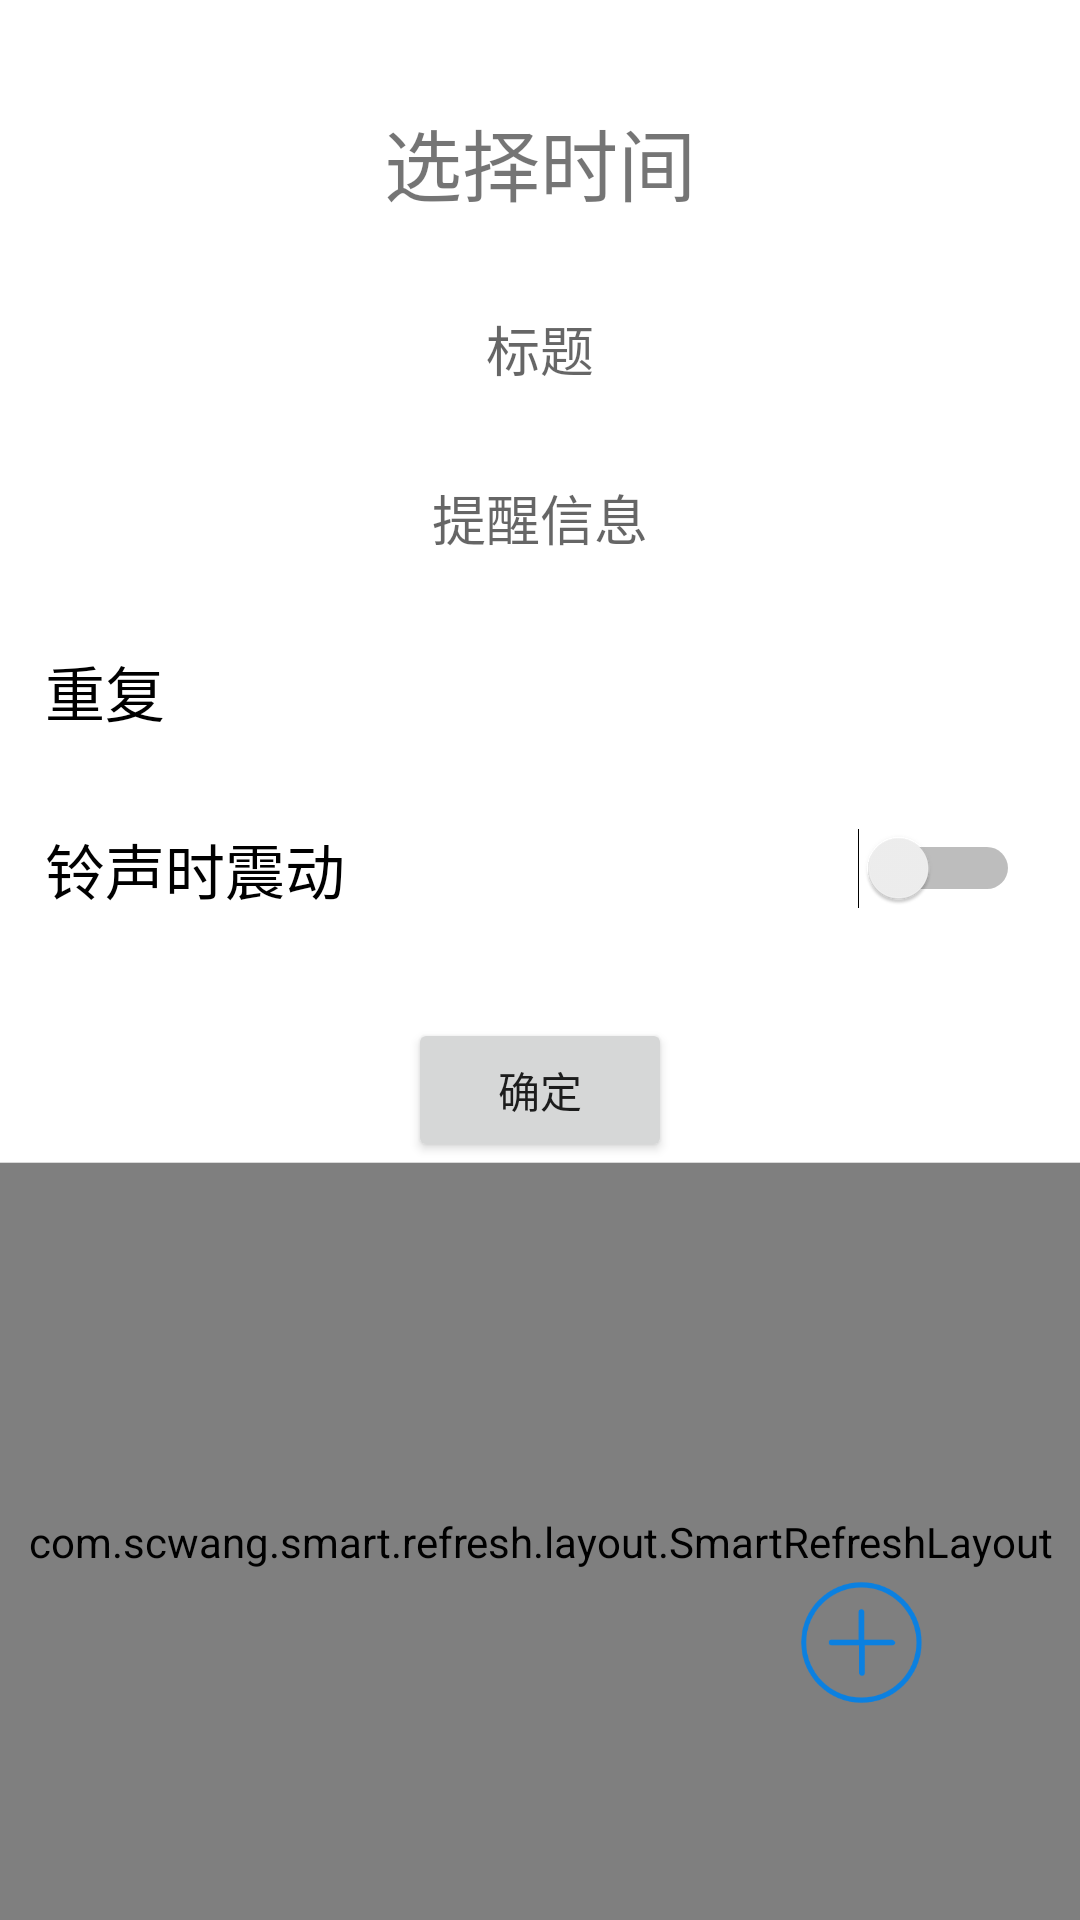

Screen size 1080px×1920px. Icon name, then its center in pixels as point (x, y):
addclock: point (861, 1642)
